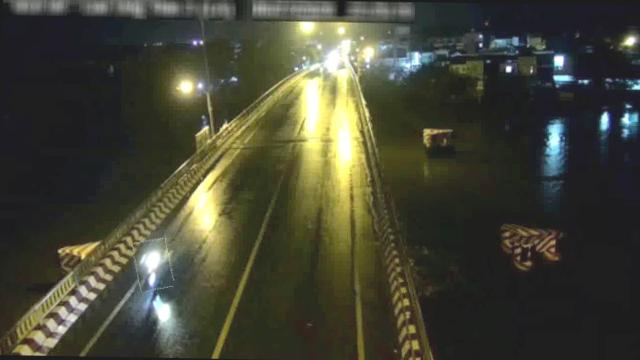Bike: (134, 239, 173, 292)
